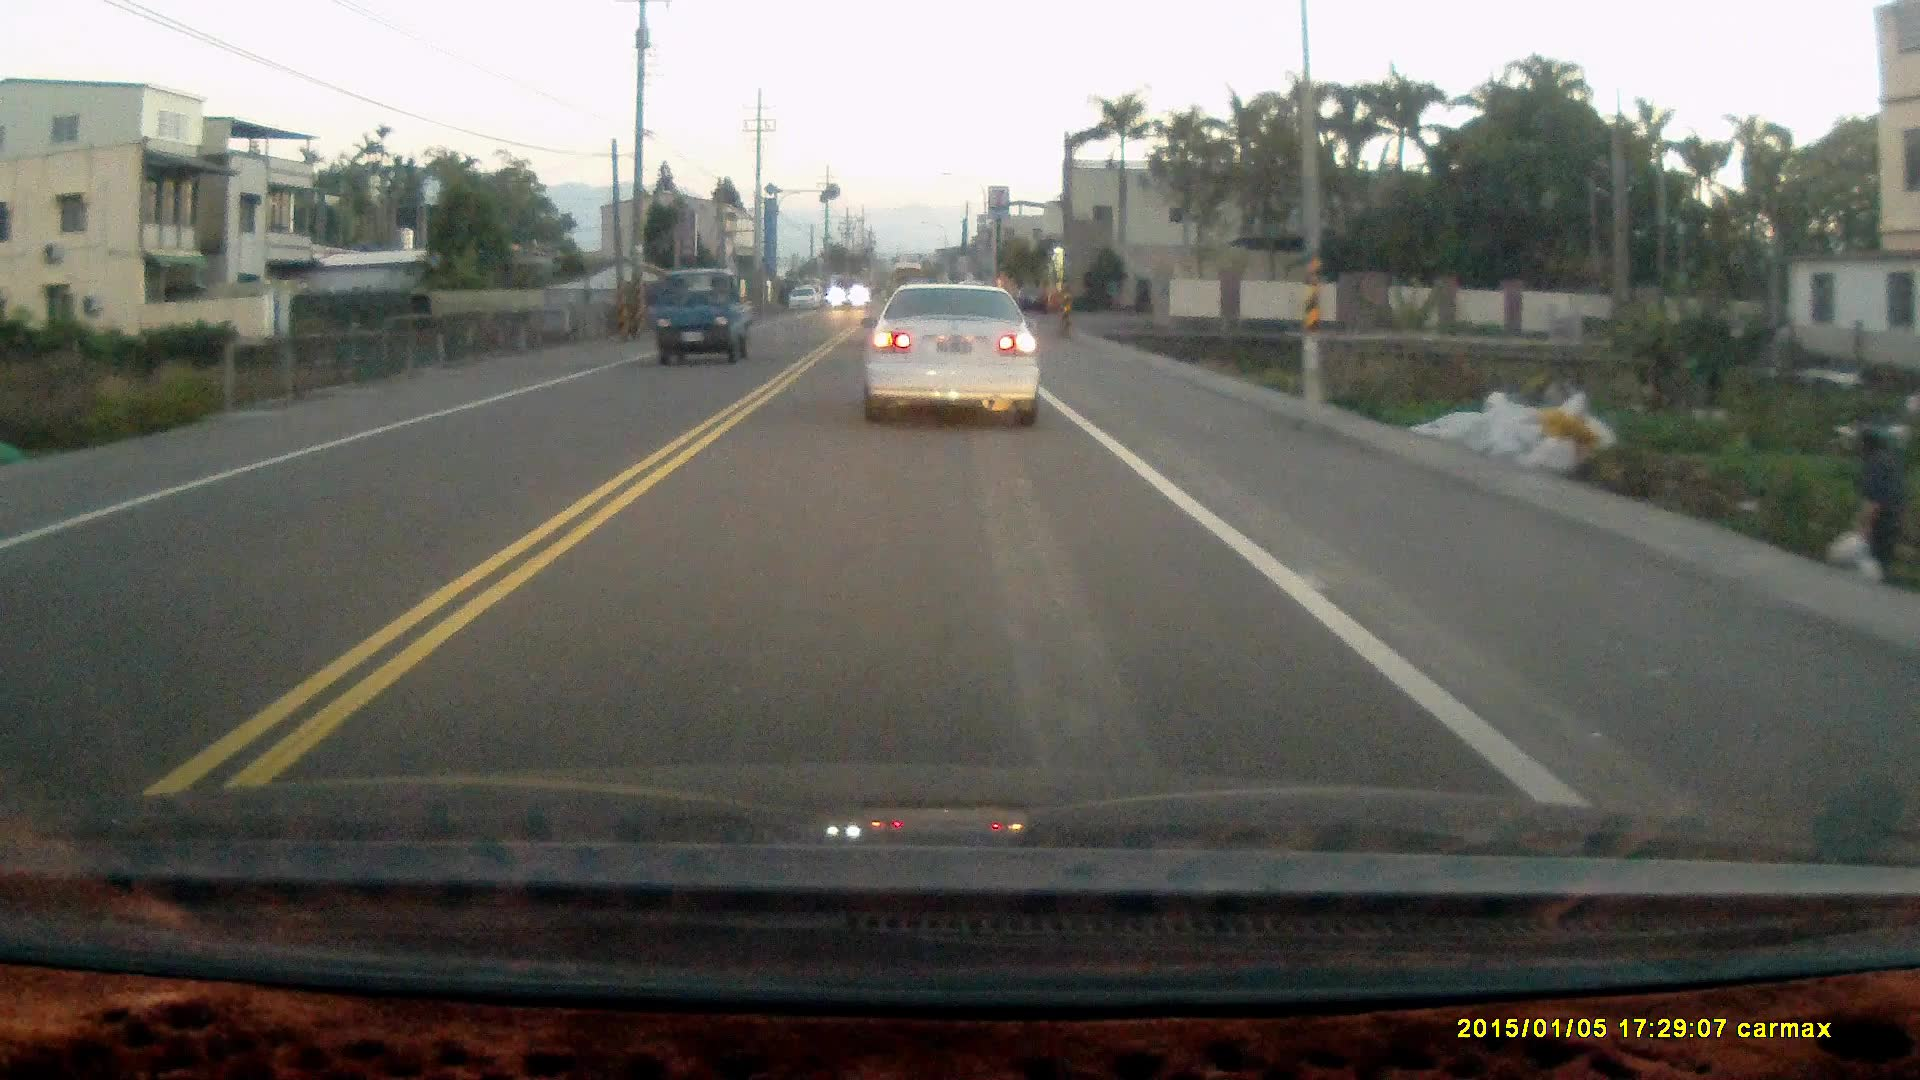pedestrian: (1845, 424, 1908, 587)
vehicle: (866, 279, 1046, 429), (656, 272, 748, 375), (833, 278, 864, 312), (789, 286, 822, 311)
